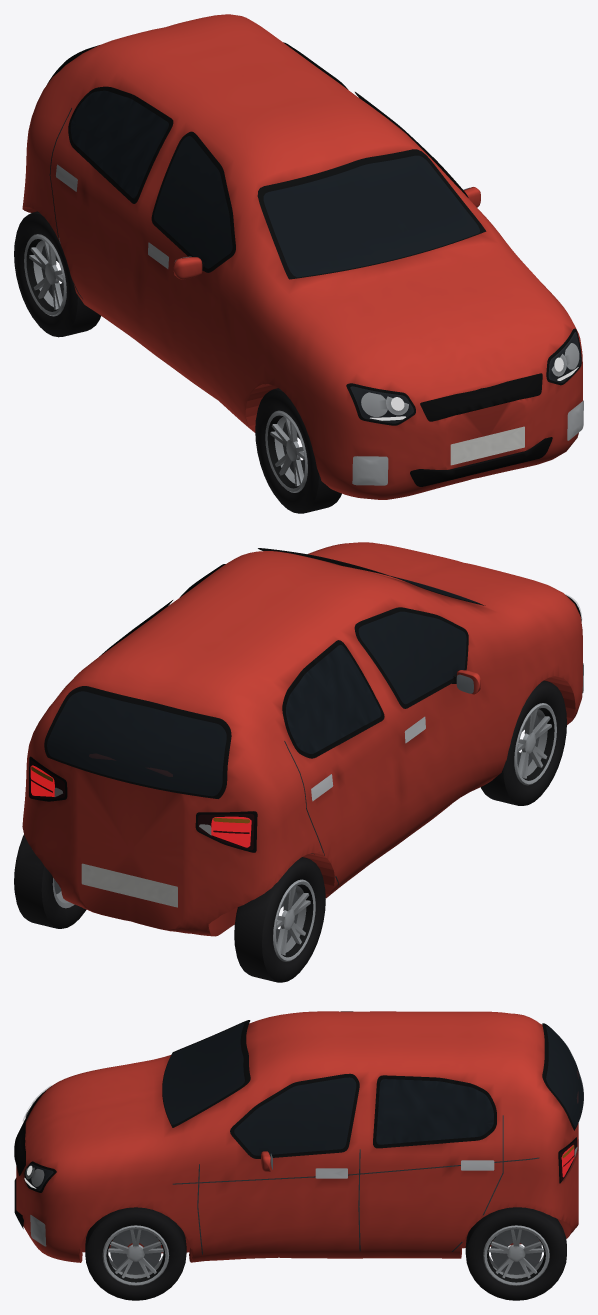
File: tall_hatch.glb
3 renders of one model, top to bottom at view 1: azimuth 30°, elevation 25°; view 2: azimuth 150°, elevation 25°; view 3: azimuth 270°, elevation 25°, orthographic. The views are drawn at different scales.
Parts seen in each view (by area): view 1: body, wheel_RR, wheel_FR; view 2: body, wheel_RR, wheel_FR, wheel_RL; view 3: body, wheel_RL, wheel_FL.
Boxes of the visible parts, x1,y1,x2,y2 form: body: (22, 14, 583, 499); wheel_RR: (14, 211, 100, 337); wheel_FR: (255, 388, 341, 513); body: (22, 542, 583, 936); wheel_RR: (234, 857, 325, 982); wheel_FR: (480, 680, 566, 805); wheel_RL: (14, 835, 86, 928); body: (14, 1011, 583, 1262); wheel_RL: (465, 1207, 566, 1300); wheel_FL: (85, 1207, 186, 1300).
Size of the model in its own units: 1.74 by 1.53 by 3.56.
